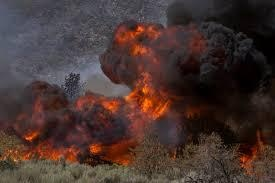fire: (4, 35, 172, 167), (238, 127, 268, 175)
